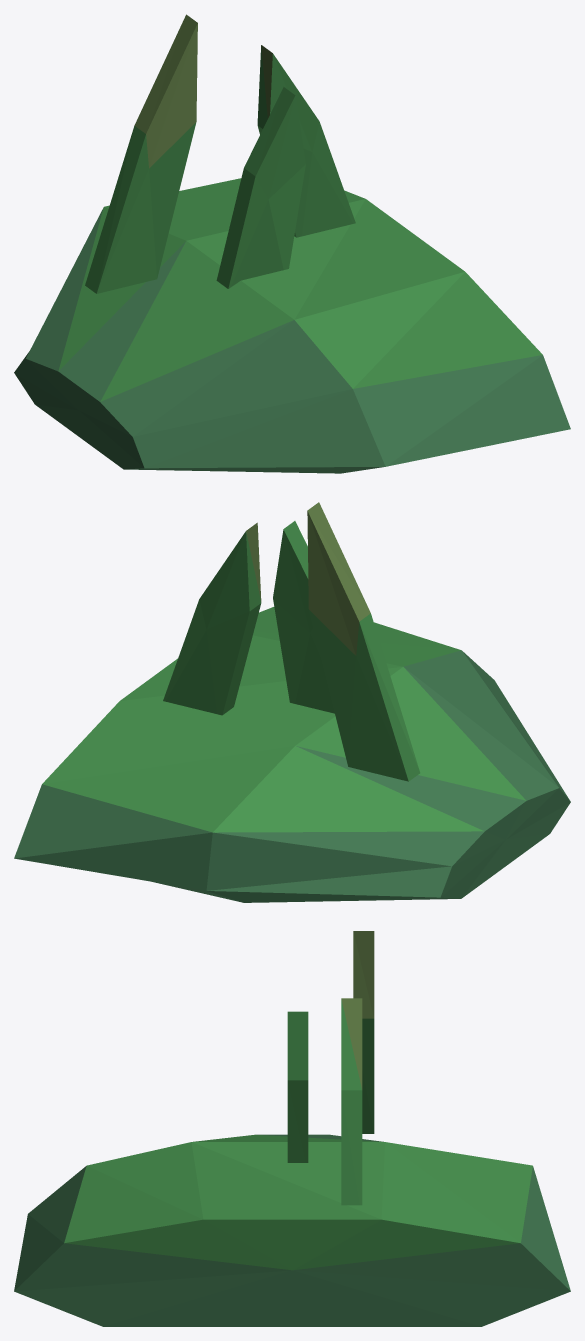
Rendered from ledge_z2_kelp_cap_l.glb.
The picture shows the model from 3 angles, top to bottom: view 1: azimuth 30°, elevation 25°; view 2: azimuth 150°, elevation 25°; view 3: azimuth 270°, elevation 25°; orthographic projection. The views are drawn at different scales.
Parts seen in each view (by area): view 1: ledge_z2_kelp_cap_l; view 2: ledge_z2_kelp_cap_l; view 3: ledge_z2_kelp_cap_l.
Part boxes in pixels (x1,y1,x2,y2): ledge_z2_kelp_cap_l: (14,14,570,473); ledge_z2_kelp_cap_l: (14,502,570,902); ledge_z2_kelp_cap_l: (14,931,570,1326).
Bounding box in the file's own units: 1 × 1 × 1.6.
